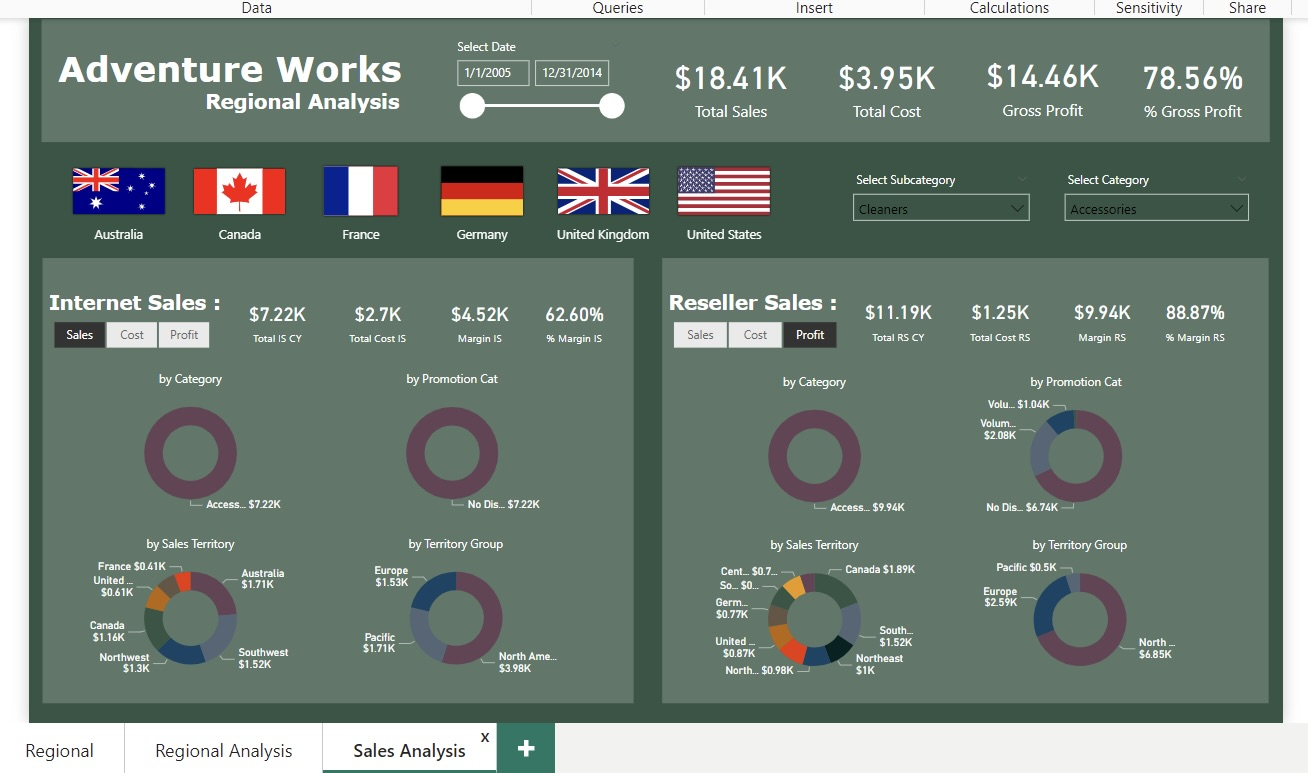

The page's visual inventory and layout, read from the dashboard file:
{"tool":"powerbi","page":{"name":"Sales Analysis","canvas":[1280,720],"ordinal":2},"visuals":[{"type":"basicShape","box":[8,240,616,464],"z":0},{"type":"basicShape","box":[640,240,632,464],"z":1000},{"type":"donutChart","title":"by Category","fields":{"Y":["All Measures.MLI"],"Category":["DimProductCategory.EnglishProductCategoryName"]},"box":[56,360,216,152],"z":2000},{"type":"donutChart","title":"by Promotion Cat","fields":{"Y":["All Measures.MLI"],"Category":["DimPromotion.EnglishPromotionName"]},"box":[328,360,208,152],"z":3000},{"type":"donutChart","title":"by Sales Territory","fields":{"Y":["All Measures.MLI"],"Category":["DimSalesTerritory.SalesTerritoryRegion"]},"box":[56,528,216,152],"z":4000},{"type":"donutChart","title":"by Territory Group","fields":{"Y":["All Measures.MLI"],"Category":["DimSalesTerritory.SalesTerritoryGroup"]},"box":[328,528,216,152],"z":5000},{"type":"donutChart","title":"by Category","fields":{"Category":["DimProductCategory.EnglishProductCategoryName"],"Y":["All Measures.MLR"]},"box":[693.6,362.8,216,152],"z":6000},{"type":"donutChart","title":"by Sales Territory","fields":{"Y":["All Measures.MLR"],"Category":["DimSalesTerritory.SalesTerritoryRegion"]},"box":[693.6,530.8,216,152],"z":7000},{"type":"donutChart","title":"by Territory Group","fields":{"Y":["All Measures.MLR"],"Category":["DimSalesTerritory.SalesTerritoryGroup"]},"box":[965.6,530.8,216,152],"z":8000},{"type":"donutChart","title":"by Promotion Cat","fields":{"Y":["All Measures.MLR"],"Category":["DimPromotion.EnglishPromotionName"]},"box":[965.6,362.8,208,152],"z":9000},{"type":"basicShape","box":[0,0,1280,128],"z":10000},{"type":"textbox","box":[24,24,376,88],"z":11000},{"type":"card","fields":{"Values":["All Measures.Total Sales"]},"box":[640,24,152,88],"z":12000},{"type":"card","fields":{"Values":["All Measures.Total Cost"]},"box":[800,24,152,88],"z":13000},{"type":"card","fields":{"Values":["All Measures.Gross Profit"]},"box":[958.9,22.3,152,88],"z":14000},{"type":"card","fields":{"Values":["All Measures.% Gross Profit"]},"box":[1112,24,152,88],"z":15000},{"type":"card","fields":{"Values":["All Measures.Total IS CY"]},"box":[204.6,276.6,96,64],"z":16000},{"type":"card","fields":{"Values":["All Measures.Total Cost IS"]},"box":[308.6,276.6,96,64],"z":17000},{"type":"card","fields":{"Values":["All Measures.Margin IS"]},"box":[412.6,276.6,96,64],"z":18000},{"type":"card","fields":{"Values":["All Measures.% Margin IS"]},"box":[508.6,276.6,96,64],"z":19000},{"type":"card","fields":{"Values":["All Measures.% Margin RS"]},"box":[1143.4,275.4,96,64],"z":20000},{"type":"card","fields":{"Values":["All Measures.Margin RS"]},"box":[1047.4,275.4,96,64],"z":21000},{"type":"card","fields":{"Values":["All Measures.Total Cost RS"]},"box":[943.4,275.4,96,64],"z":22000},{"type":"card","fields":{"Values":["All Measures.Total RS CY"]},"box":[839.4,275.4,96,64],"z":23000},{"type":"slicer","fields":{"Values":["DimDate.FullDateAlternateKey"]},"box":[424,16,192,112],"z":24000},{"type":"enlightenWorldFlagsE887F52F76244B1C927F80CF9724AEF6","fields":{"code":["DimGeography.EnglishCountryRegionName"]},"box":[24,136,752,120],"z":25000},{"type":"slicer","fields":{"Values":["DimProductSubcategory.EnglishProductSubcategoryName"]},"box":[832,152,200,80],"z":26000},{"type":"slicer","fields":{"Values":["DimProductCategory.EnglishProductCategoryName"]},"box":[1048,152,208,80],"z":27000},{"type":"textbox","box":[16,272,200,48],"z":28000},{"type":"textbox","box":[648,272,216,48],"z":29000},{"type":"slicer","fields":{"Values":["InternetMeasure.Measure"]},"box":[0,304,208,40],"z":30000},{"type":"slicer","fields":{"Values":["ResellerMeasure.Measure"]},"box":[632,304,216,40],"z":31000}]}

Visuals, with their boxes on the page's 1280x720 design canvas (x1, y1, x2, y2). These are canvas units, not pixel positions in the 1308x773 screenshot, which may show the page scaled, cropped or inside an application window:
basicShape: [8,240,624,704]
basicShape: [640,240,1272,704]
"by Category" donutChart: [56,360,272,512]
"by Promotion Cat" donutChart: [328,360,536,512]
"by Sales Territory" donutChart: [56,528,272,680]
"by Territory Group" donutChart: [328,528,544,680]
"by Category" donutChart: [694,363,910,515]
"by Sales Territory" donutChart: [694,531,910,683]
"by Territory Group" donutChart: [966,531,1182,683]
"by Promotion Cat" donutChart: [966,363,1174,515]
basicShape: [0,0,1280,128]
textbox: [24,24,400,112]
card - All Measures.Total Sales: [640,24,792,112]
card - All Measures.Total Cost: [800,24,952,112]
card - All Measures.Gross Profit: [959,22,1111,110]
card - All Measures.% Gross Profit: [1112,24,1264,112]
card - All Measures.Total IS CY: [205,277,301,341]
card - All Measures.Total Cost IS: [309,277,405,341]
card - All Measures.Margin IS: [413,277,509,341]
card - All Measures.% Margin IS: [509,277,605,341]
card - All Measures.% Margin RS: [1143,275,1239,339]
card - All Measures.Margin RS: [1047,275,1143,339]
card - All Measures.Total Cost RS: [943,275,1039,339]
card - All Measures.Total RS CY: [839,275,935,339]
slicer - DimDate.FullDateAlternateKey: [424,16,616,128]
enlightenWorldFlagsE887F52F76244B1C927F80CF9724AEF6 - DimGeography.EnglishCountryRegionName: [24,136,776,256]
slicer - DimProductSubcategory.EnglishProductSubcategoryName: [832,152,1032,232]
slicer - DimProductCategory.EnglishProductCategoryName: [1048,152,1256,232]
textbox: [16,272,216,320]
textbox: [648,272,864,320]
slicer - InternetMeasure.Measure: [0,304,208,344]
slicer - ResellerMeasure.Measure: [632,304,848,344]
